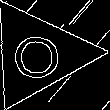O_N: (13, 27, 64, 80)
